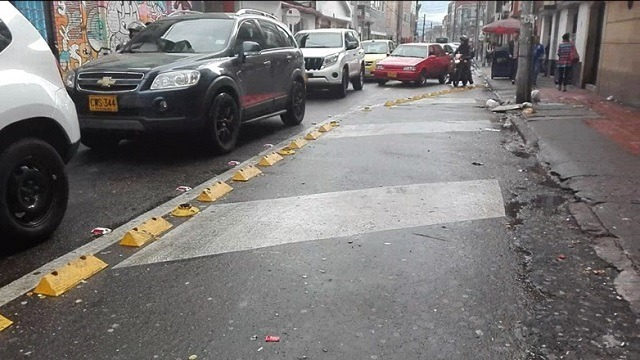car: (73, 16, 301, 155), (1, 5, 92, 241), (293, 27, 362, 98), (366, 44, 452, 85), (348, 35, 385, 82), (354, 36, 398, 75)
